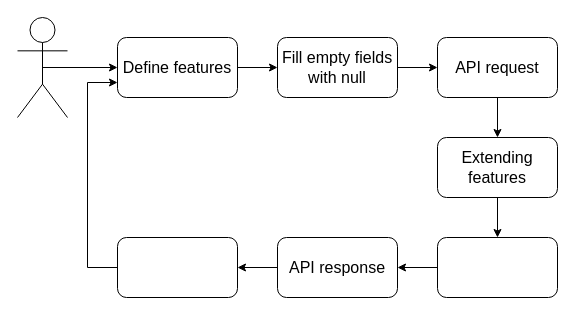
The diagram is 575 pixels wide and 315 high, and some of its shapes have lost their labels. Each missing label, with the centre of its shape:
"Actor" belongs at pixel 42 67.
"Calculating rating" belongs at pixel 497 267.
"Prediction and baloons" belongs at pixel 177 267.
